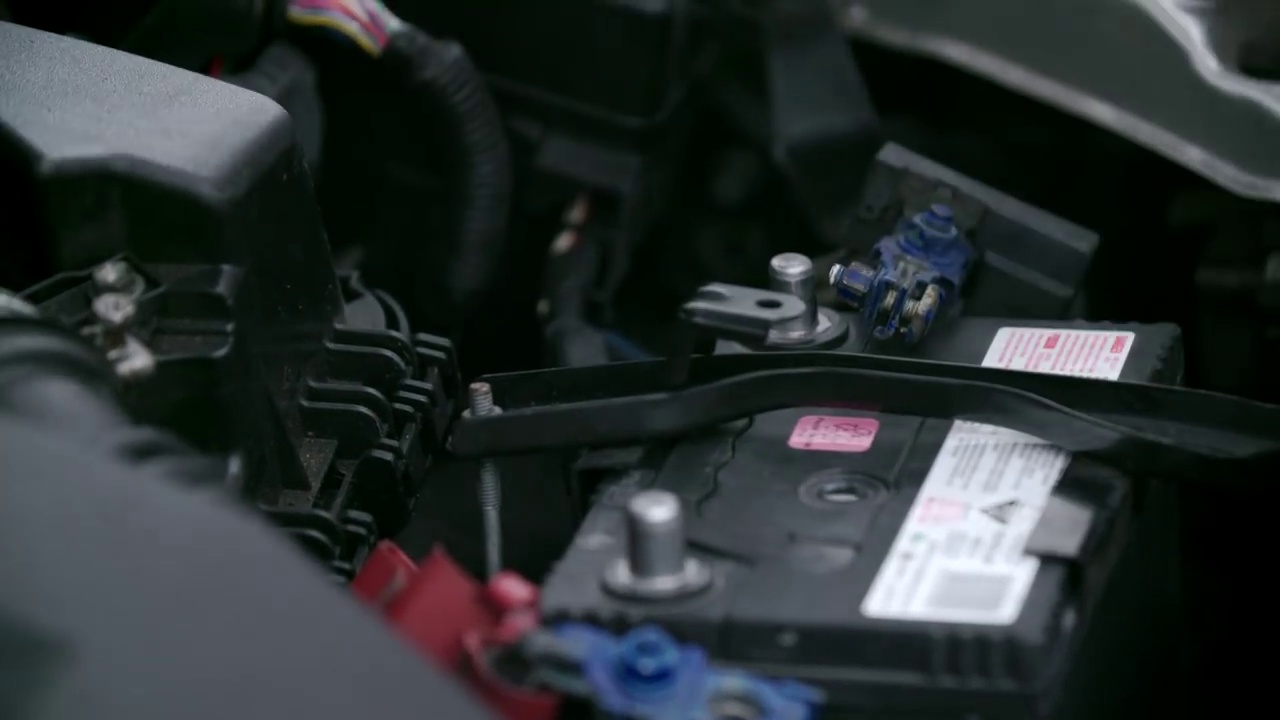battery: (535, 287, 1184, 667)
neg_disconnected: (736, 215, 993, 349)
pos_disconnected: (355, 476, 759, 701)
